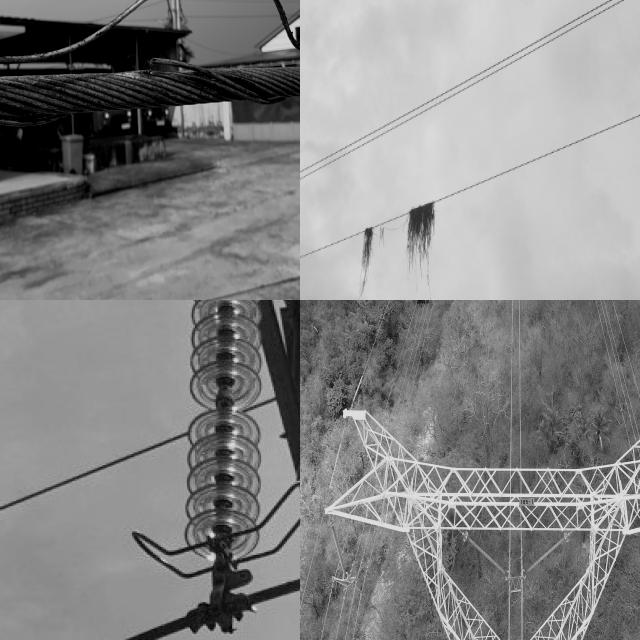杆塔: (325, 406, 640, 640), (232, 300, 300, 640)
植被遮挡: (406, 197, 437, 300), (355, 225, 374, 300)
正常绝缘子: (165, 300, 271, 632), (521, 528, 570, 583), (462, 532, 511, 581), (326, 514, 349, 584)
电缆破损: (0, 0, 170, 134)
绝缘子破损: (208, 388, 240, 408)
